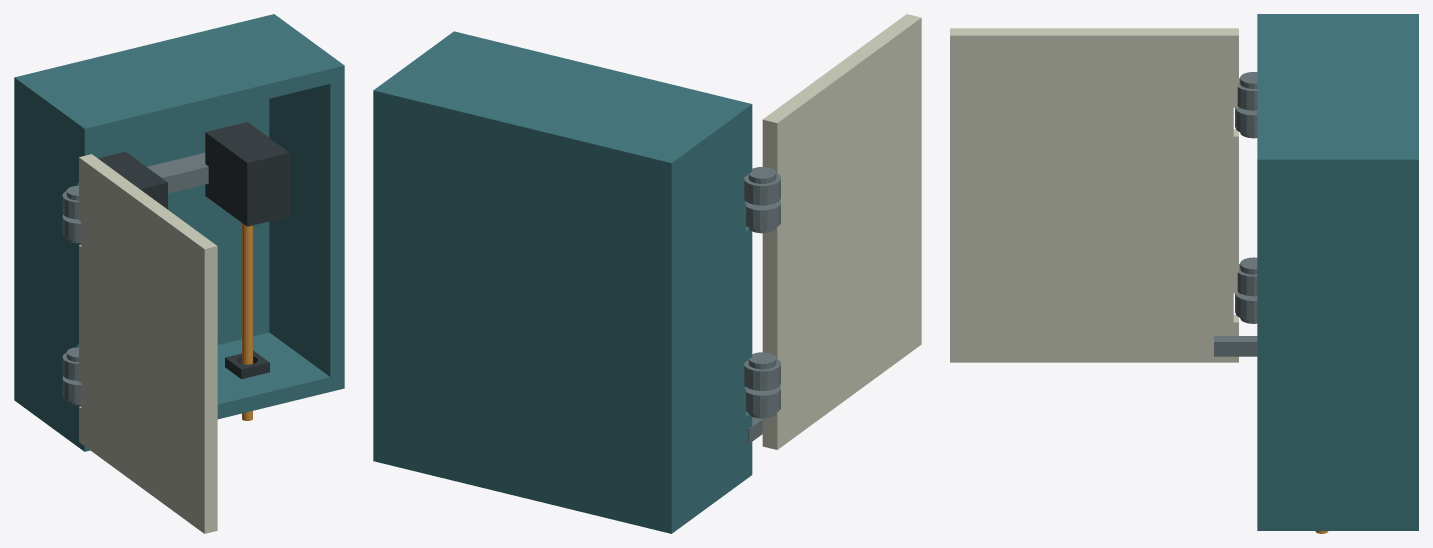
3 views of the same model, side by side, from view 1: azimuth 30°, elevation 25°; view 2: azimuth 150°, elevation 25°; view 3: azimuth 270°, elevation 25° (orthographic). The views are drawn at different scales.
Parts seen in each view (by area): view 1: Housing_ContinuousOpenWallBox, Door_FixedNinetyDegreeOpen, Terminal_2_RealBlindEntry, Wire_2_ClosedFixedRoute, Terminal_1_RealBlindEntry, Rail_FixedRearSupport, BottomSleeve_2_TrueThroughBore, Hinge_2_BodyBoredKnuckle, Hinge_1_BodyBoredKnuckle; view 2: Housing_ContinuousOpenWallBox, Door_FixedNinetyDegreeOpen, Hinge_1_BodyBoredKnuckle, Hinge_1_DoorBoredKnuckle, Hinge_2_BodyBoredKnuckle, Hinge_2_DoorBoredKnuckle; view 3: Door_FixedNinetyDegreeOpen, Housing_ContinuousOpenWallBox, Stop_FixedDoorOpenLimit, Hinge_2_BodyBoredKnuckle, Hinge_1_BodyBoredKnuckle.
Boxes of the visible parts, box(x1,y1,x2,y2) form: Housing_ContinuousOpenWallBox: box(14, 14, 344, 451); Door_FixedNinetyDegreeOpen: box(79, 154, 217, 533); Terminal_2_RealBlindEntry: box(205, 122, 289, 226); Wire_2_ClosedFixedRoute: box(242, 223, 252, 420); Terminal_1_RealBlindEntry: box(99, 151, 167, 209); Rail_FixedRearSupport: box(147, 152, 208, 193); BottomSleeve_2_TrueThroughBore: box(225, 350, 269, 379); Hinge_2_BodyBoredKnuckle: box(62, 214, 81, 240); Hinge_1_BodyBoredKnuckle: box(62, 376, 81, 401); Housing_ContinuousOpenWallBox: box(373, 31, 752, 533); Door_FixedNinetyDegreeOpen: box(762, 14, 921, 449); Hinge_1_BodyBoredKnuckle: box(745, 385, 780, 415); Hinge_1_DoorBoredKnuckle: box(744, 359, 780, 390); Hinge_2_BodyBoredKnuckle: box(745, 200, 780, 229); Hinge_2_DoorBoredKnuckle: box(744, 174, 780, 205); Door_FixedNinetyDegreeOpen: box(950, 28, 1238, 362); Housing_ContinuousOpenWallBox: box(1257, 14, 1418, 530); Stop_FixedDoorOpenLimit: box(1214, 336, 1257, 356); Hinge_2_BodyBoredKnuckle: box(1235, 107, 1257, 134); Hinge_1_BodyBoredKnuckle: box(1235, 293, 1257, 320).
Size of the model in its own units: 0.693 by 0.84 by 0.87.
